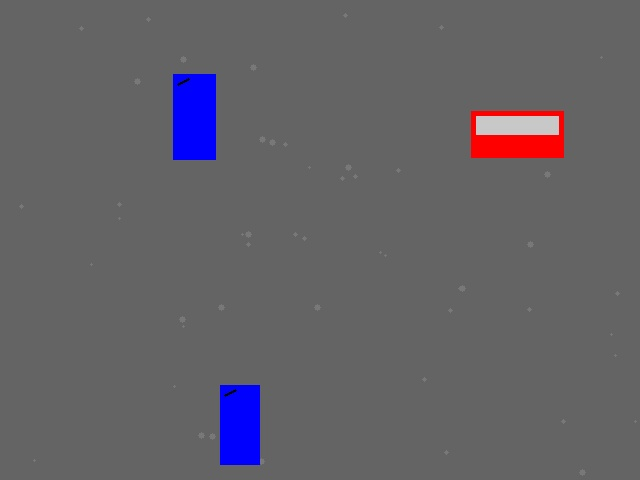car: (471, 111, 563, 157)
motorcycle: (173, 74, 215, 159), (220, 385, 259, 464)
